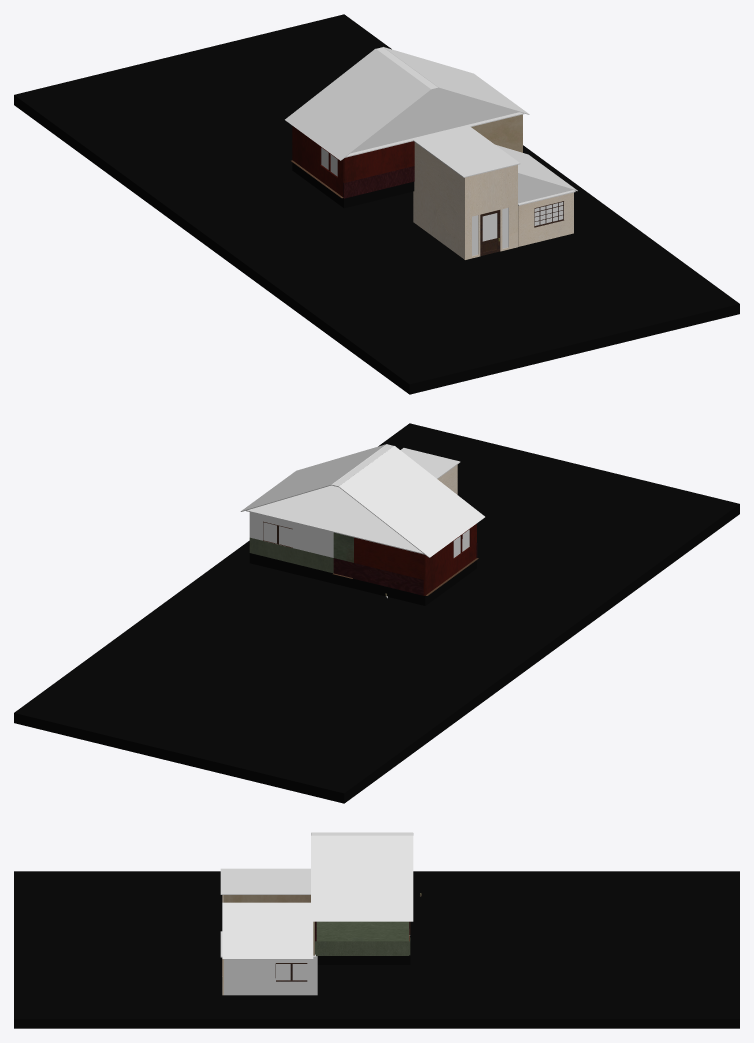
The model's file is House 2.fbx.
3 renders of one model, top to bottom at view 1: azimuth 30°, elevation 25°; view 2: azimuth 150°, elevation 25°; view 3: azimuth 270°, elevation 25°, orthographic. The views are drawn at different scales.
Parts seen in each view (by area): view 1: Ground, Cube.162, Cube.164, Cube.158, Cube.030, Cube.015, Cube.161, Cube.062, Cube.029, Cube.090, Cube.001, Upstairs ground (+4 smaller); view 2: Ground, Cube.162, Cube.159, Cube.161, Upstairs ground, Cube.035, Cube.090, Cube.013, Cube.012, Cube.092, Cube.158; view 3: Ground, Cube.161, Cube.160, Cube.061, Cube.158, Cube.093, Cube.014, Upstairs ground, Cube.002, glass.002, Cube.163.
Boxes of the visible parts, x1,y1,x2,y2 form: Ground: [14, 14, 739, 394]; Cube.162: [285, 48, 431, 160]; Cube.164: [351, 88, 519, 153]; Cube.158: [413, 126, 520, 177]; Cube.030: [464, 165, 517, 244]; Cube.015: [414, 142, 463, 243]; Cube.161: [383, 47, 529, 114]; Cube.062: [343, 141, 414, 182]; Cube.029: [518, 192, 573, 246]; Cube.090: [292, 126, 343, 196]; Cube.001: [413, 166, 463, 258]; Upstairs ground: [292, 162, 414, 208]; Ground: [14, 423, 739, 803]; Cube.162: [338, 446, 484, 557]; Cube.159: [246, 485, 424, 554]; Cube.161: [240, 444, 386, 511]; Upstairs ground: [249, 553, 476, 605]; Cube.035: [354, 537, 423, 579]; Cube.090: [423, 524, 476, 595]; Cube.013: [249, 512, 333, 557]; Cube.012: [333, 558, 423, 595]; Cube.092: [249, 537, 333, 573]; Cube.158: [400, 448, 460, 478]; Ground: [14, 871, 739, 1028]; Cube.161: [311, 835, 413, 921]; Cube.160: [222, 902, 313, 959]; Cube.061: [224, 956, 317, 995]; Cube.158: [220, 868, 310, 894]; Cube.093: [316, 921, 408, 941]; Cube.014: [316, 941, 408, 955]; Upstairs ground: [316, 935, 410, 964]; Cube.002: [223, 895, 310, 902]; glass.002: [276, 964, 307, 980]; Cube.163: [311, 832, 412, 835].
Size of the model in its own units: 6771 by 2783 by 14046.
